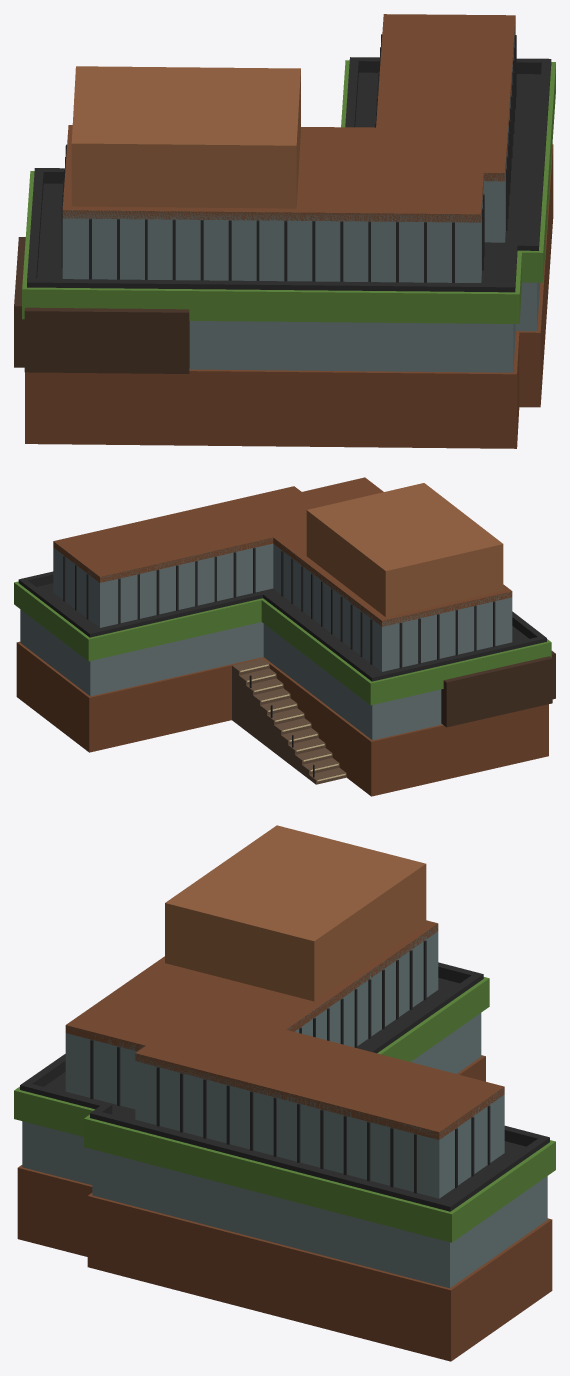
Rendered from tsutaya.glb.
3 renders of one model, top to bottom at view 1: azimuth 30°, elevation 25°; view 2: azimuth 150°, elevation 25°; view 3: azimuth 270°, elevation 25°, orthographic. The views are drawn at different scales.
Visible parts, largest first — view 1: tsutaya; view 2: tsutaya; view 3: tsutaya.
Part boxes in pixels (x1=…): tsutaya: x1=14, y1=14, x2=555, y2=448; tsutaya: x1=14, y1=477, x2=555, y2=796; tsutaya: x1=14, y1=825, x2=555, y2=1361.
Size of the model in its own units: 40.32 by 17 by 31.01.
